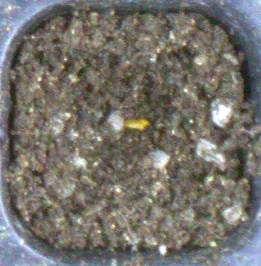pepper seed: (48, 52, 199, 183)
